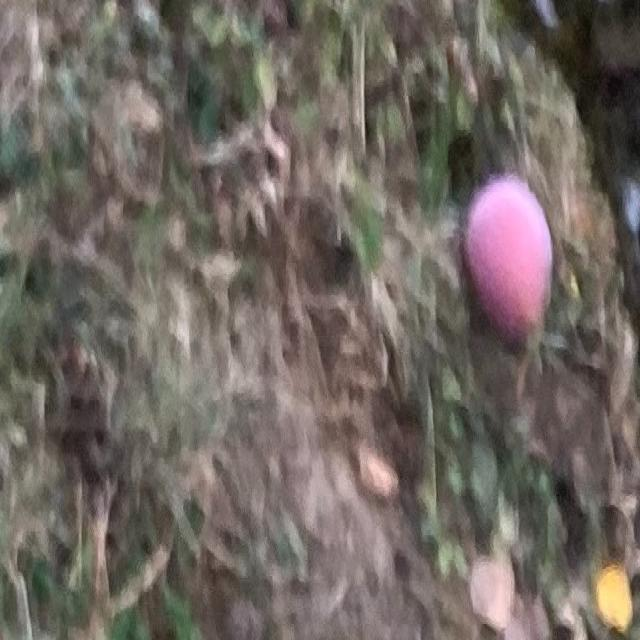Apples: (471, 183, 548, 334)
